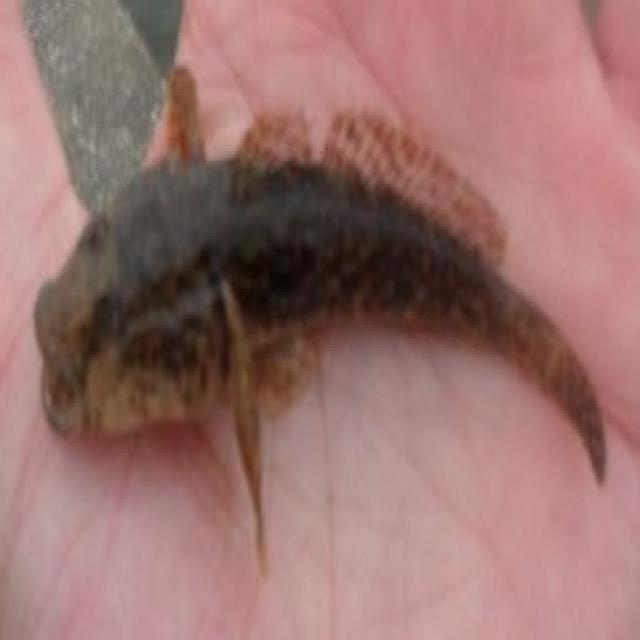Goby: (6, 59, 640, 603)
